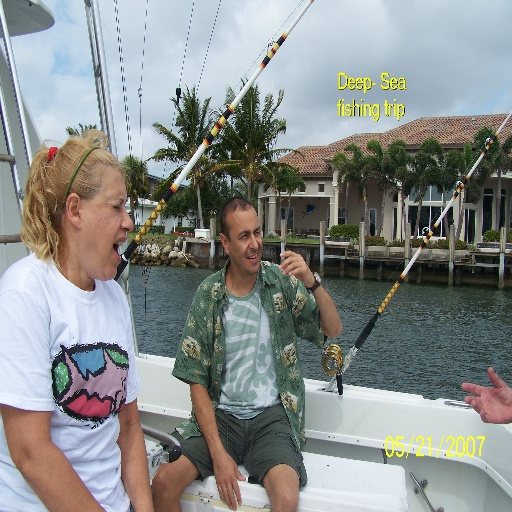hand: (463, 375, 510, 429), (212, 450, 246, 511), (276, 251, 315, 287)
